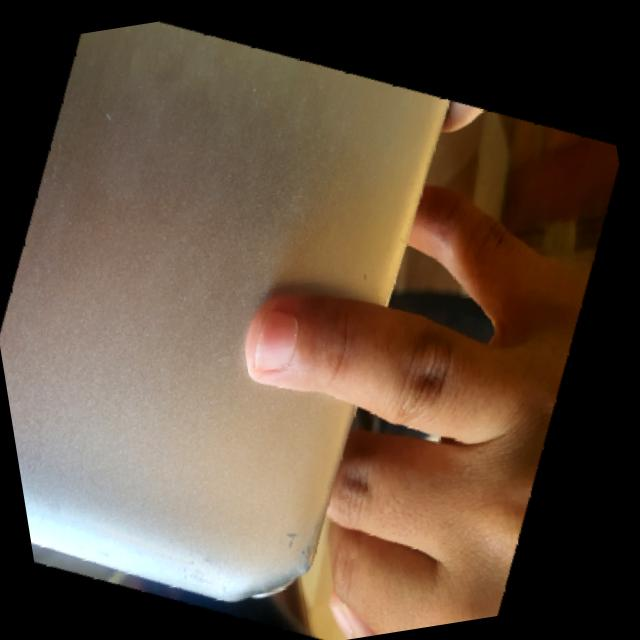Nail: (256, 310, 298, 371)
